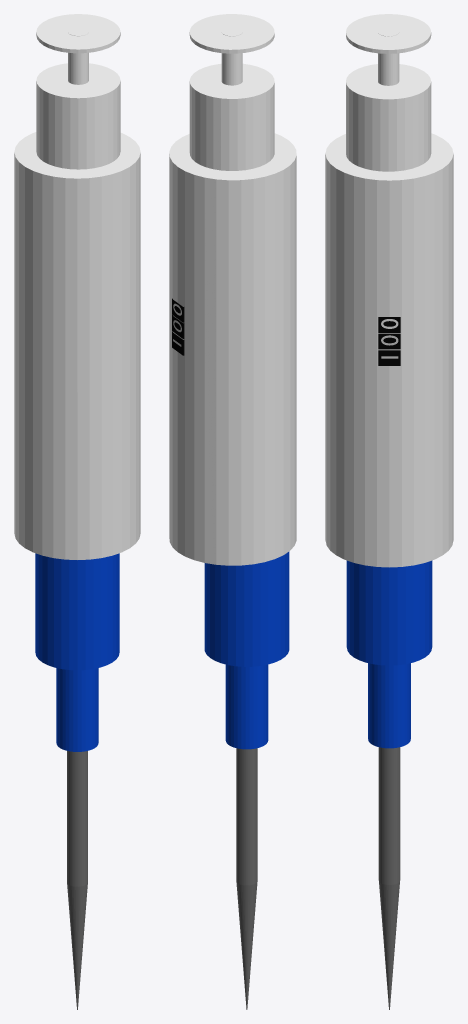
Rendered from pipepitte.fbx.
3 views of the same model, side by side, from view 1: azimuth 90°, elevation 25°; view 2: azimuth 210°, elevation 25°; view 3: azimuth 270°, elevation 25° (orthographic).
Parts seen in each view (by area): view 1: Cylinder.003; view 2: Cylinder.003; view 3: Cylinder.003, Cube.002, Cube.001, Cube.003.
Boxes of the visible parts, x1,y1,x2,y2 form: Cylinder.003: (14,14,140,1009); Cylinder.003: (169,14,296,1009); Cylinder.003: (325,14,453,1009); Cube.002: (378,333,400,349); Cube.001: (378,317,400,332); Cube.003: (378,350,400,365).
Size of what is drawn, in the model's own units: 60.4 by 509 by 60.
